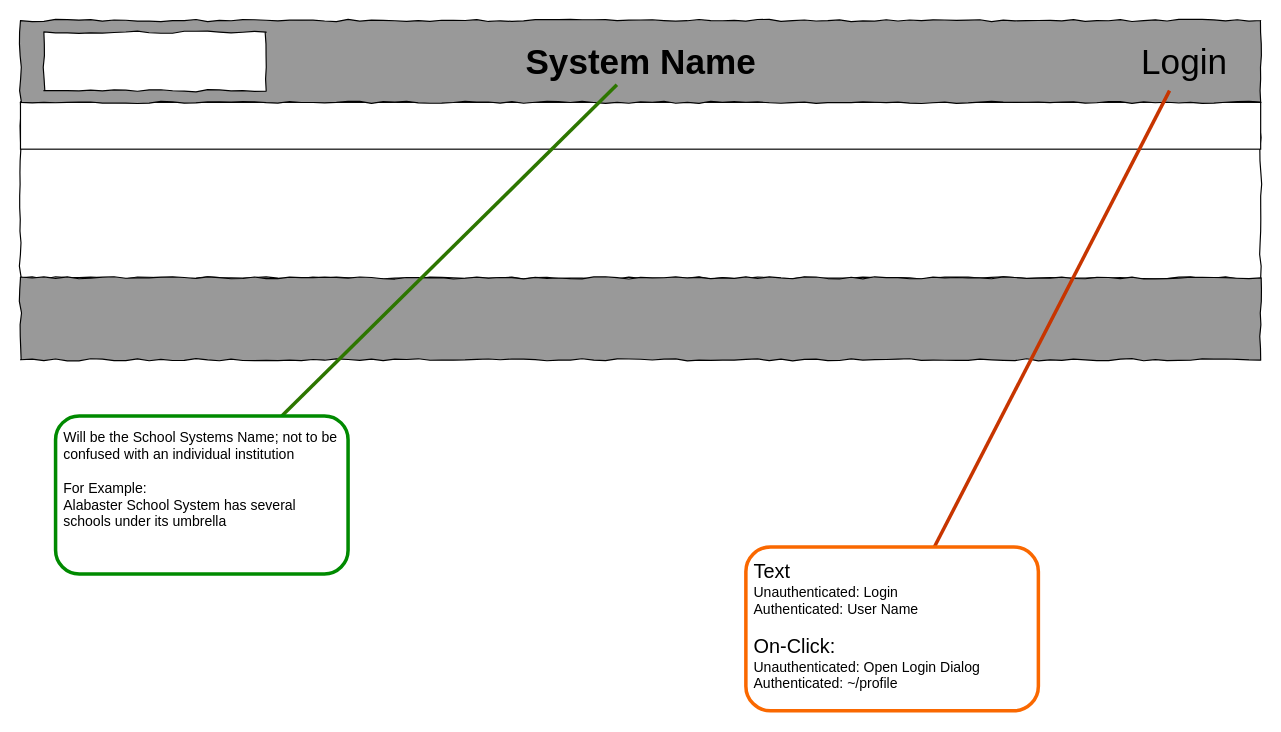
Some shapes in this 1281 by 732 pixel diagram are drawn without their labels. The shapes that lost their labels are listed below. From the top down, each one's box as (x1, y1, x2, y2) in pixels, then its label:
(43, 31, 266, 91): LOGO
(19, 101, 1261, 149): Global Navigation
